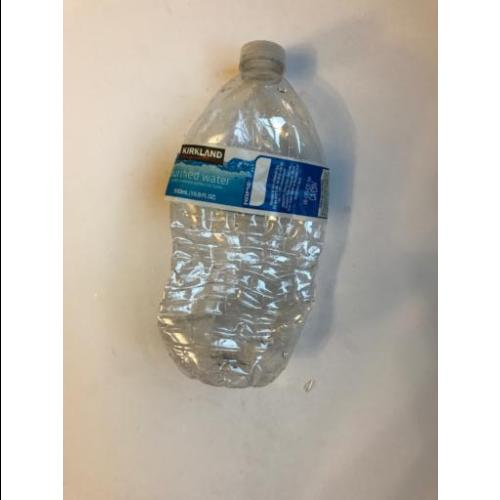plastic: (159, 42, 329, 389)
